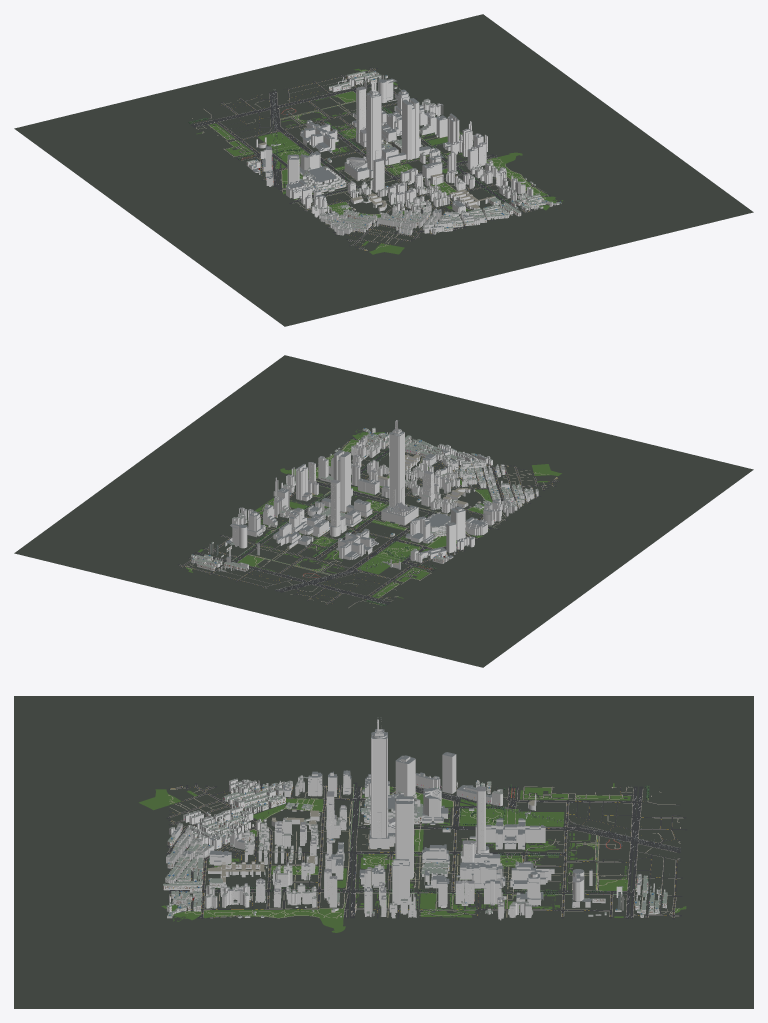
The model's file is xinyi-district.glb.
3 views of the same model, one above another, from view 1: azimuth 30°, elevation 25°; view 2: azimuth 150°, elevation 25°; view 3: azimuth 270°, elevation 25° (orthographic). The views are drawn at different scales.
Visible parts, largest first — view 1: Ground, Buildings style 3, Buildings style 1, Lanes Driving, Green, Buildings style 0, Buildings style 2, Lanes Sidewalk, Lanes Footway, Buildings style 4, Lanes intersection, Props grille; view 2: Ground, Buildings style 3, Buildings style 1, Lanes Driving, Green, Buildings style 2, Buildings style 0, Lanes Sidewalk, Lanes Footway, Lanes intersection, Buildings style 4, Props crown; view 3: Ground, Buildings style 3, Green, Lanes Driving, Buildings style 1, Buildings style 0, Buildings style 2, Lanes Sidewalk, Lanes Footway, Lanes intersection, Buildings style 4, Props grille (+3 smaller).
Boxes of the visible parts, x1,y1,x2,y2 form: Ground: (14, 14, 753, 326); Buildings style 3: (252, 78, 483, 232); Buildings style 1: (249, 81, 533, 235); Lanes Driving: (193, 68, 549, 249); Green: (196, 68, 563, 254); Buildings style 0: (246, 71, 561, 234); Buildings style 2: (267, 79, 520, 208); Lanes Sidewalk: (194, 68, 548, 249); Lanes Footway: (192, 70, 545, 243); Buildings style 4: (256, 137, 495, 211); Lanes intersection: (191, 67, 553, 251); Props grille: (247, 73, 558, 233); Ground: (14, 355, 753, 667); Buildings style 3: (225, 429, 512, 563); Buildings style 1: (227, 435, 538, 569); Lanes Driving: (180, 432, 557, 607); Green: (186, 429, 561, 598); Buildings style 2: (230, 420, 501, 546); Buildings style 0: (191, 427, 530, 571); Lanes Sidewalk: (179, 432, 556, 604); Lanes Footway: (187, 438, 544, 607); Lanes intersection: (178, 431, 559, 608); Buildings style 4: (377, 452, 480, 569); Props crown: (235, 448, 436, 605); Ground: (14, 696, 753, 1008); Buildings style 3: (171, 729, 640, 913); Green: (139, 783, 686, 932); Lanes Driving: (168, 784, 684, 917); Buildings style 1: (166, 774, 641, 918); Buildings style 0: (163, 781, 667, 918); Buildings style 2: (224, 717, 583, 920); Lanes Sidewalk: (167, 784, 683, 918); Lanes Footway: (170, 786, 680, 918); Lanes intersection: (166, 782, 687, 919); Buildings style 4: (208, 794, 536, 910); Props grille: (163, 782, 667, 916).
Bounding box in the file's own units: 2400 × 451 × 2400.
